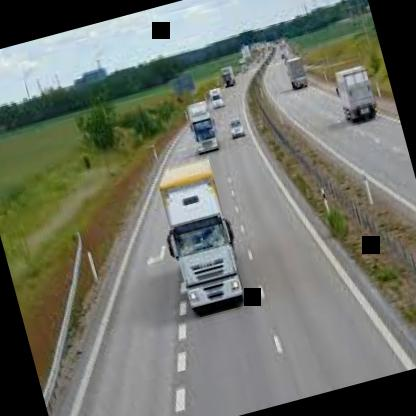car: (142, 148, 262, 340), (330, 54, 386, 134), (180, 91, 225, 158), (272, 45, 315, 100), (214, 53, 243, 98), (222, 106, 252, 146), (206, 80, 228, 116)
